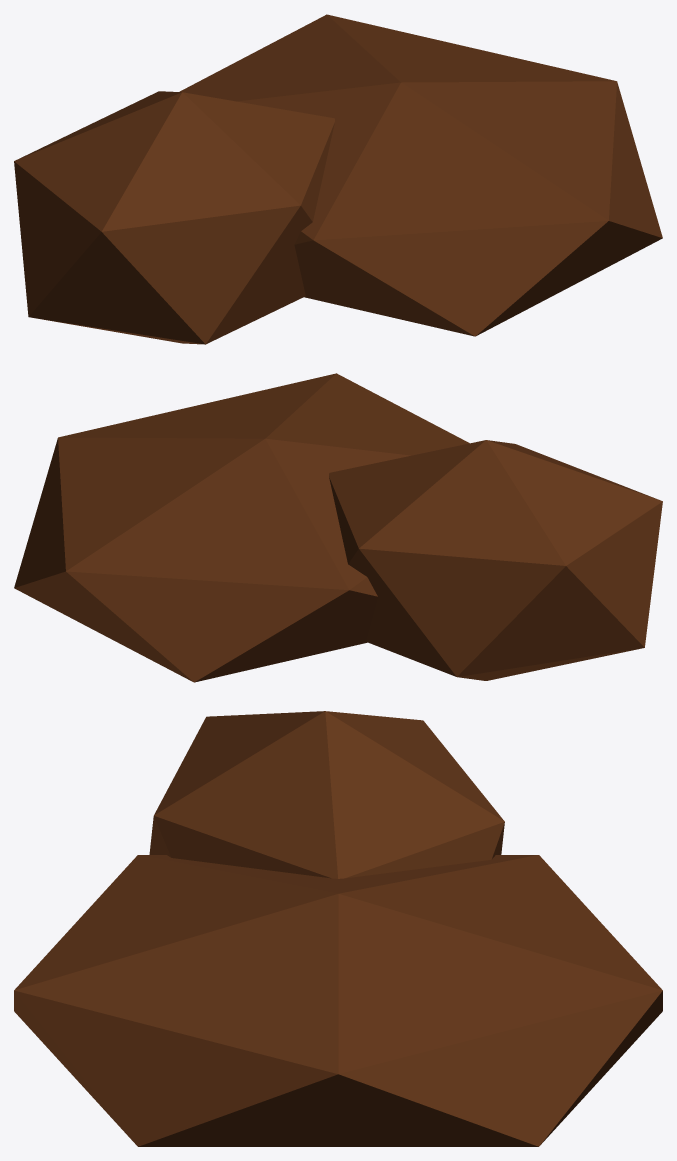
The model's file is mud_2.fbx.
3 views of the same model, one above another, from view 1: azimuth 30°, elevation 25°; view 2: azimuth 150°, elevation 25°; view 3: azimuth 270°, elevation 25° (orthographic). The views are drawn at different scales.
Parts seen in each view (by area): view 1: mud_2; view 2: mud_2; view 3: mud_2.
Boxes of the visible parts, x1,y1,x2,y2 form: mud_2: (14, 14, 662, 344); mud_2: (14, 373, 662, 682); mud_2: (14, 711, 662, 1146).
Bounding box in the file's own units: 178 × 71.26 × 145.
